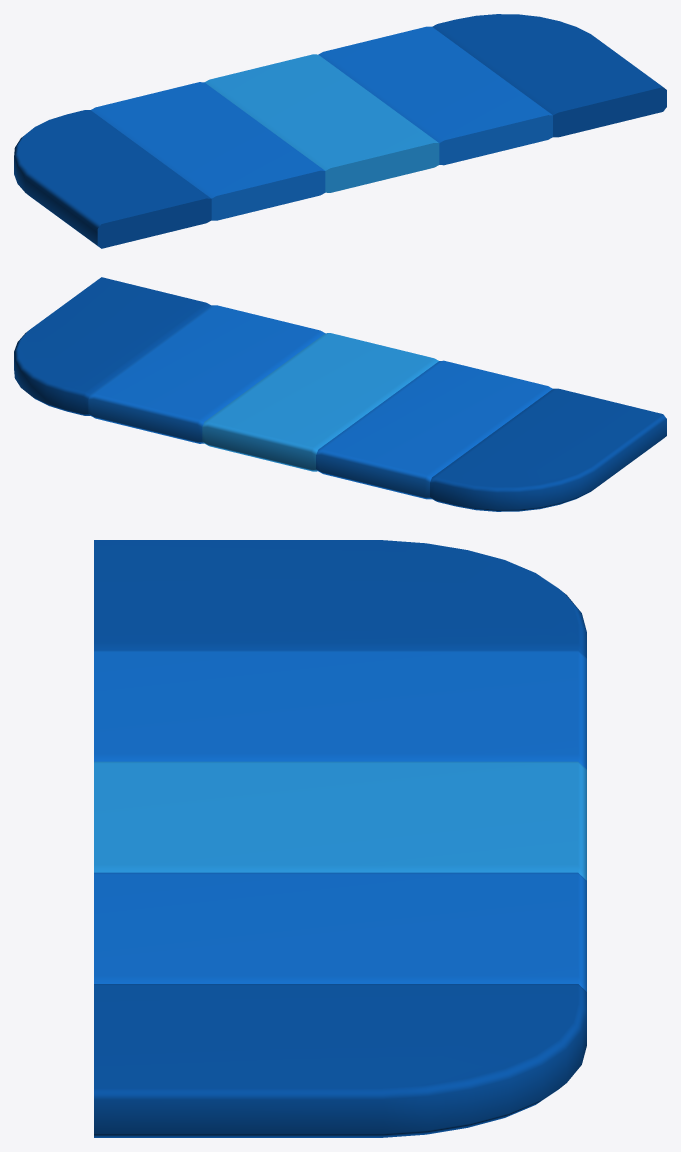
Rendered from platform_candy_008.glb.
The picture shows the model from 3 angles, top to bottom: view 1: azimuth 30°, elevation 25°; view 2: azimuth 150°, elevation 25°; view 3: azimuth 270°, elevation 25°; orthographic projection. The views are drawn at different scales.
Parts seen in each view (by area): view 1: platform_candy_008; view 2: platform_candy_008; view 3: platform_candy_008.
Boxes of the visible parts, box(x1,y1,x2,y2) form: platform_candy_008: box(14, 14, 666, 248); platform_candy_008: box(14, 277, 666, 511); platform_candy_008: box(94, 540, 586, 1137).
Size of the model in its own units: 12 by 0.5 by 4.5.
Materials: 1 (1 with a texture image).
